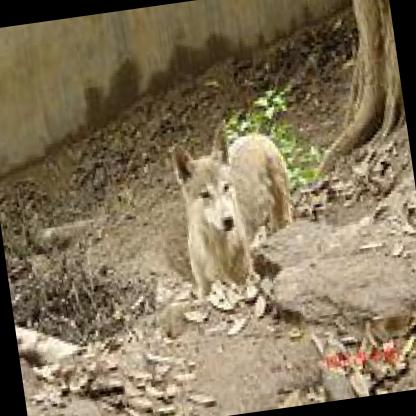dhole: (168, 114, 302, 292)
